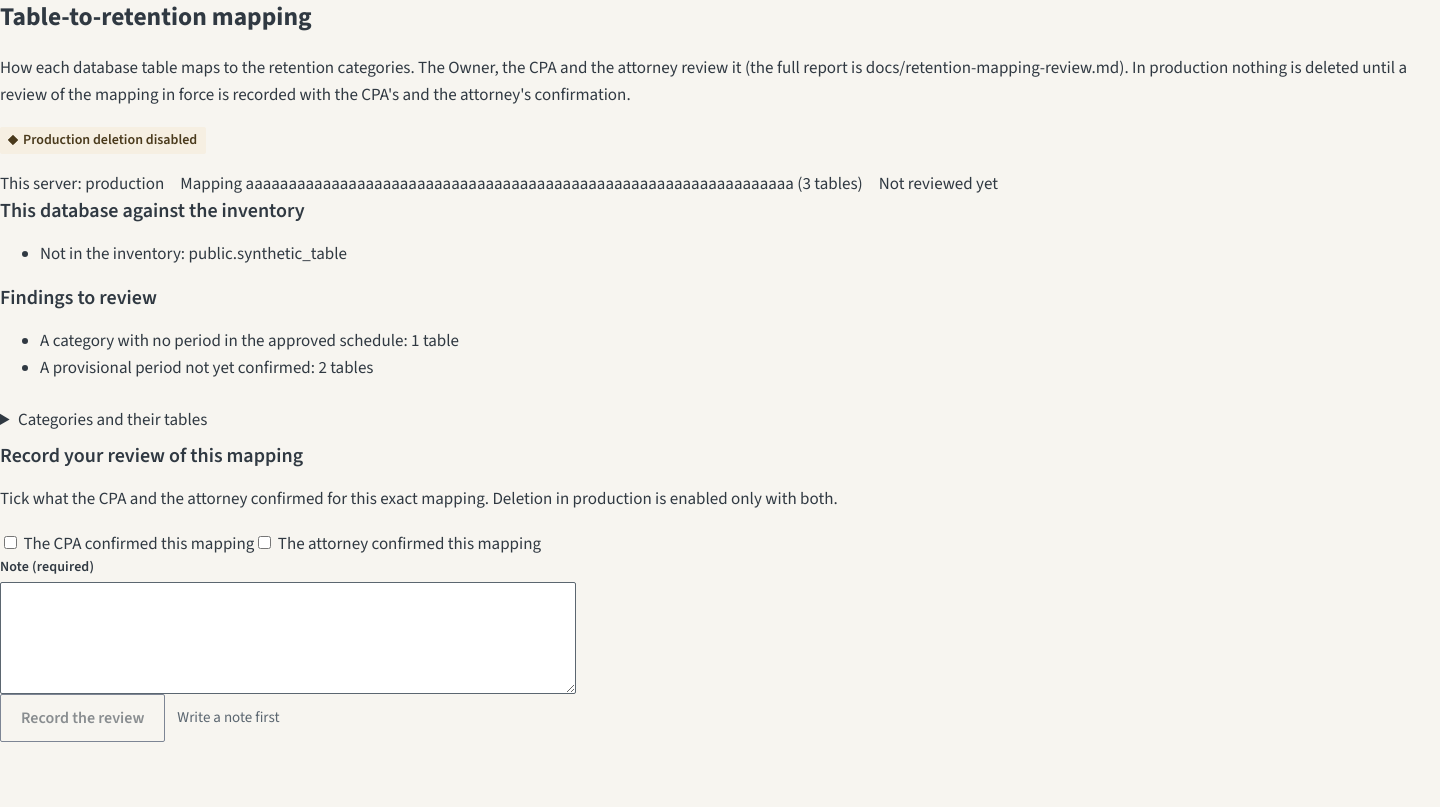
table-to-retention mapping review (TSK-0152, OWN-DEC-201 I5) › [HH-PRIV-01] a changed mapping is refused and labelled
The image size is (1440, 807).
Type "Synthetic" into the text box labelled "Note (required)" at {"x": 288, "y": 638}, box x1=0 y1=582 x2=576 y2=694
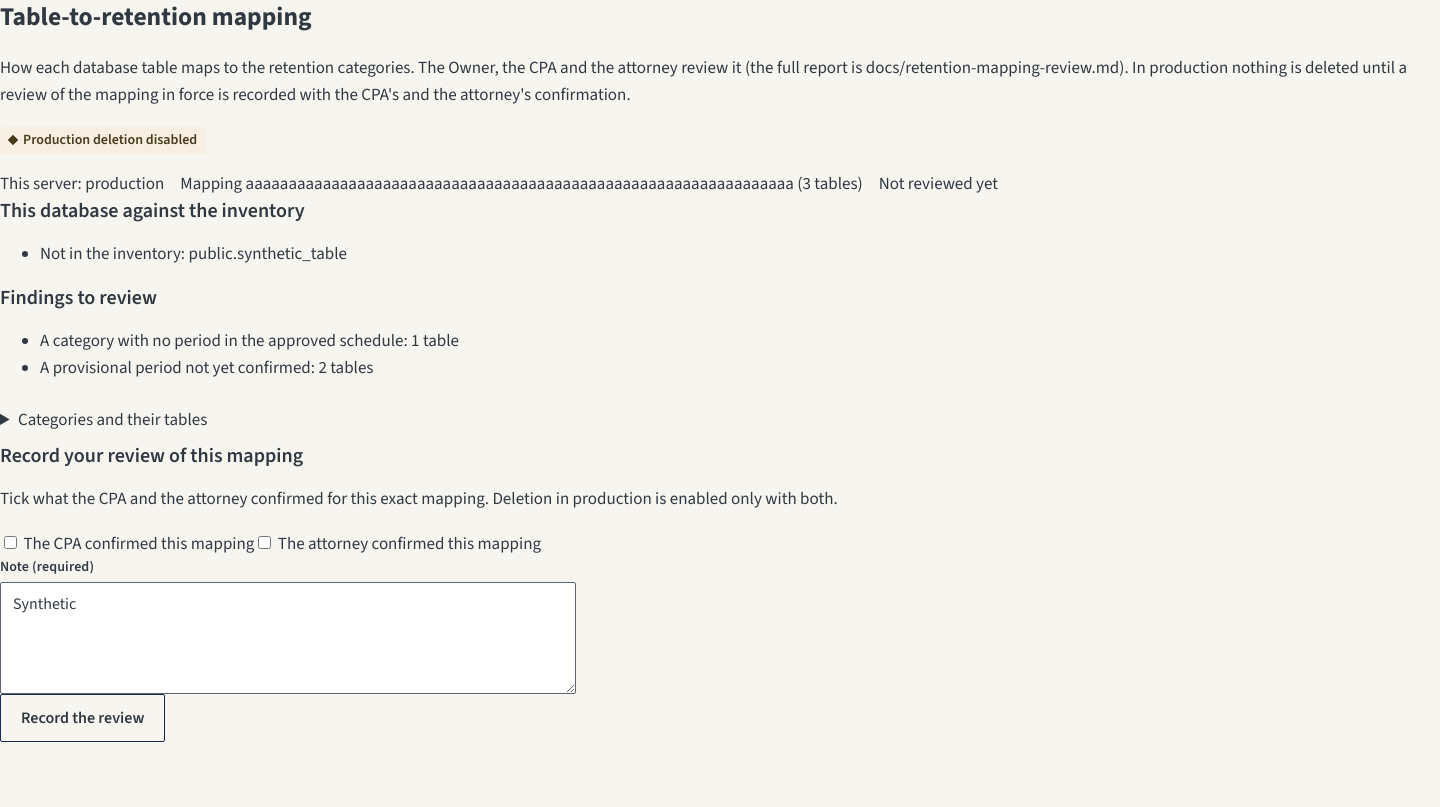
Click the button "Record the review" at {"x": 83, "y": 718}, box x1=0 y1=694 x2=165 y2=742
(page scrolled)
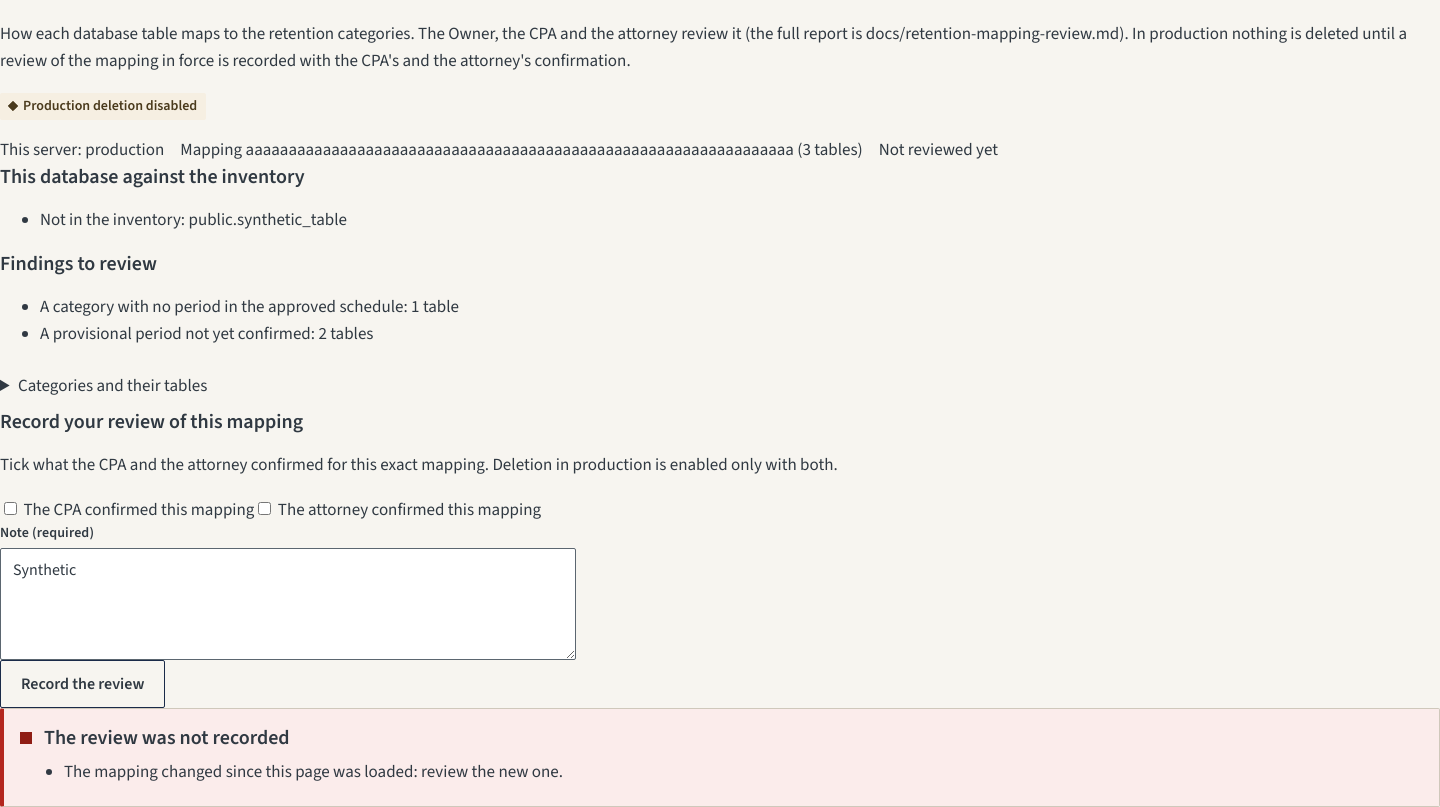
Expected: the list item "The mapping changed since this page was loaded" is shown, x1=64 y1=760 x2=563 y2=784
